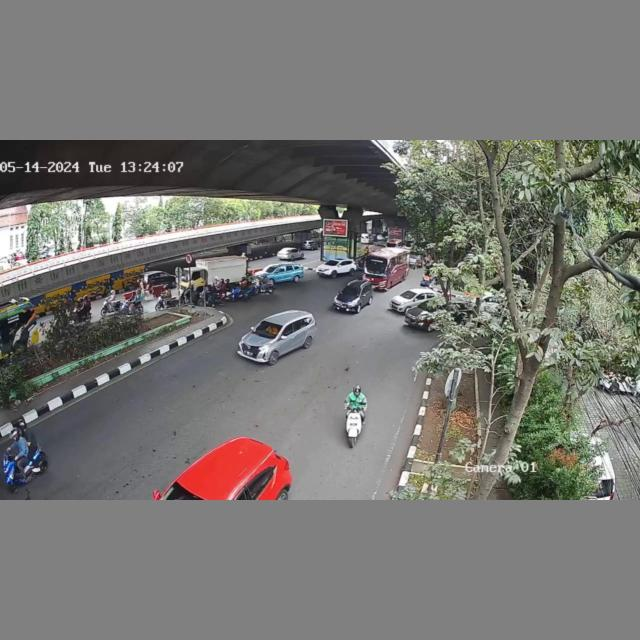windshield: (254, 319, 281, 340)
